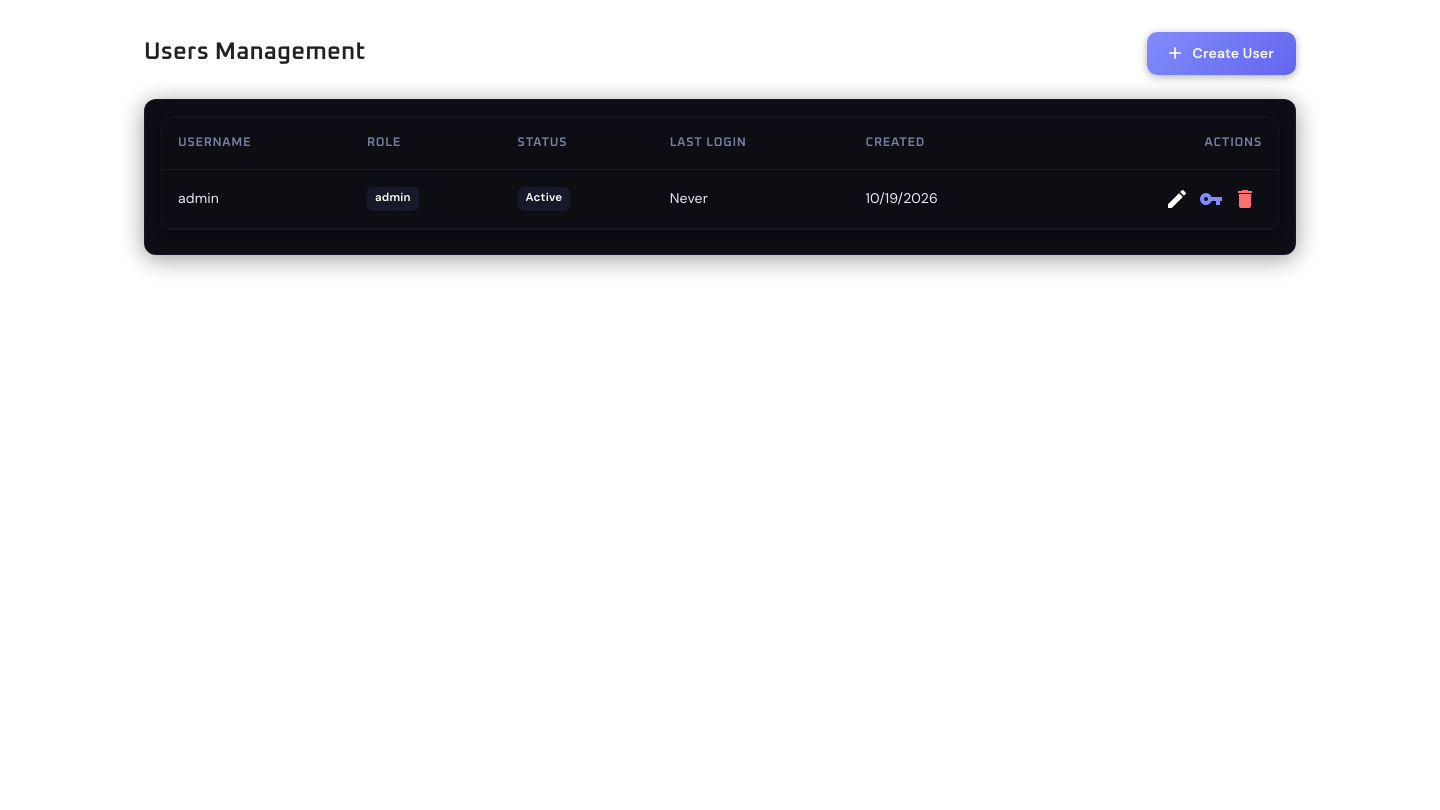
Test case: Users page › opens edit dialog when edit icon clicked
Click the button named "Edit User".
click(1177, 198)  # box top-left (1160, 182), bottom-right (1194, 216)
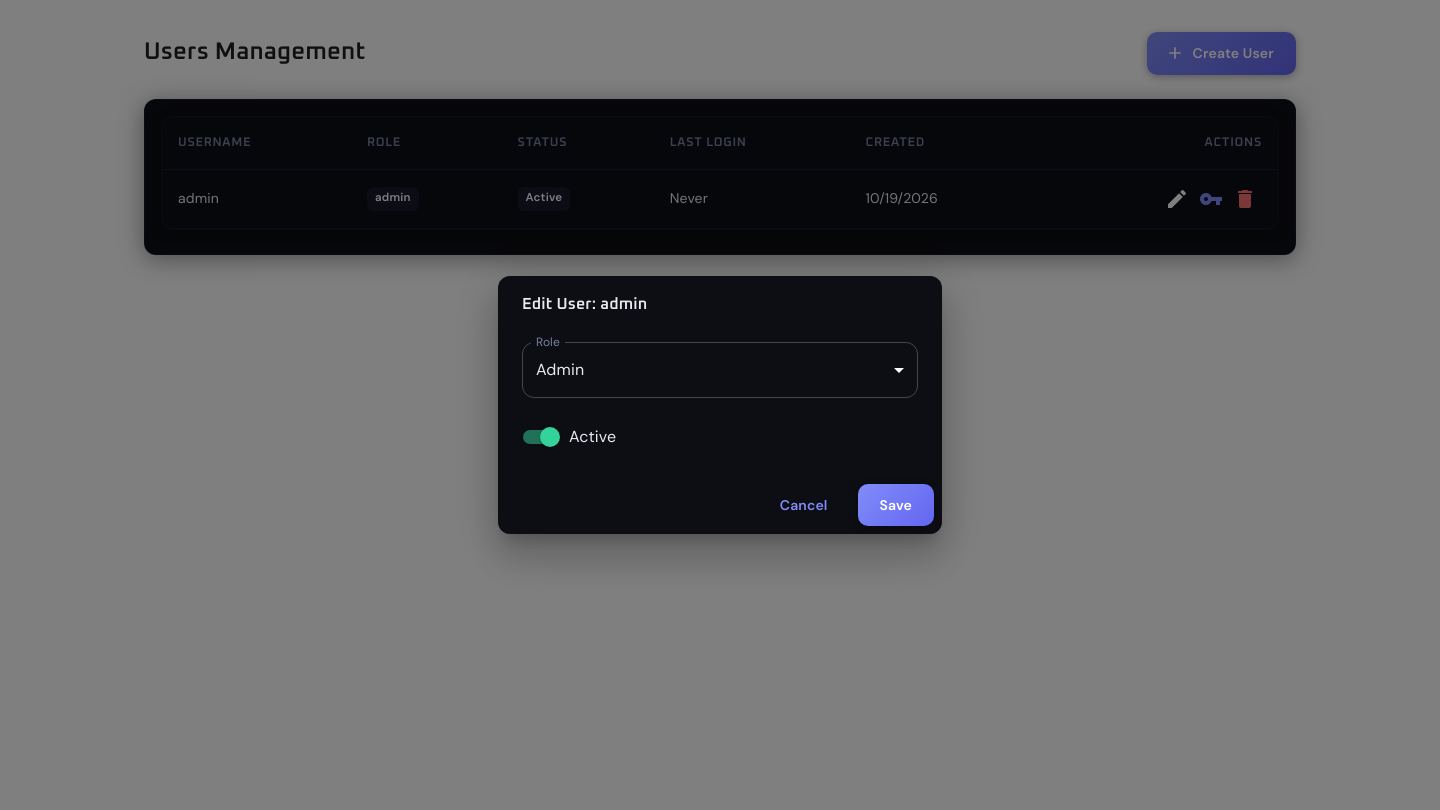
Expected: the heading "Edit User: admin" is shown, top-left (522, 296), bottom-right (647, 312)
